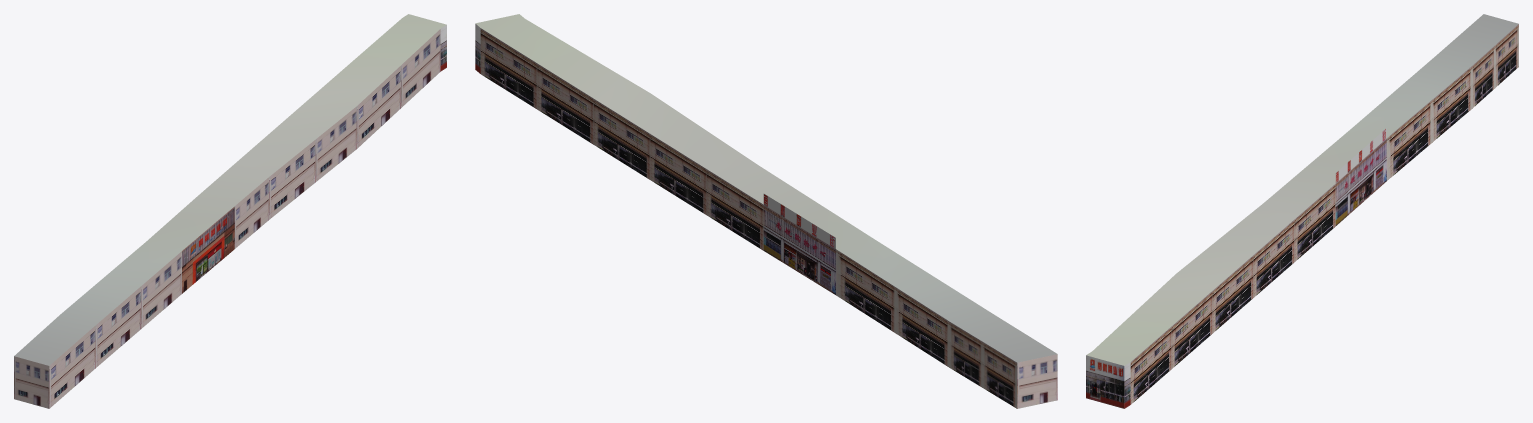
The model's file is syj.gltf.
3 renders of one model, left to right at view 1: azimuth 90°, elevation 25°; view 2: azimuth 150°, elevation 25°; view 3: azimuth 270°, elevation 25°, orthographic. The views are drawn at different scales.
Visible parts, largest first — view 1: Model; view 2: Model; view 3: Model.
Boxes of the visible parts, bbox=[...] form: Model: bbox=[14, 14, 446, 408]; Model: bbox=[475, 14, 1057, 408]; Model: bbox=[1086, 14, 1518, 408].
Bounding box in the file's own units: 0.2172 × 0.0154 × 0.1129.
3 materials, 3 textured.
